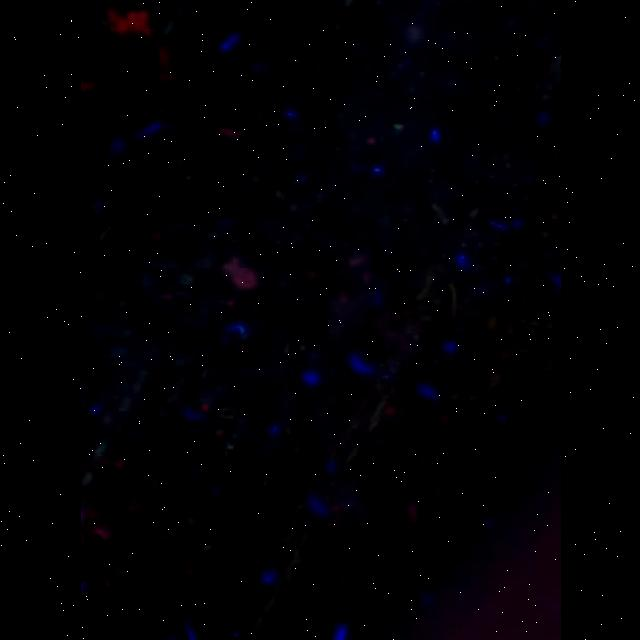Fragment: (106, 9, 151, 36)
